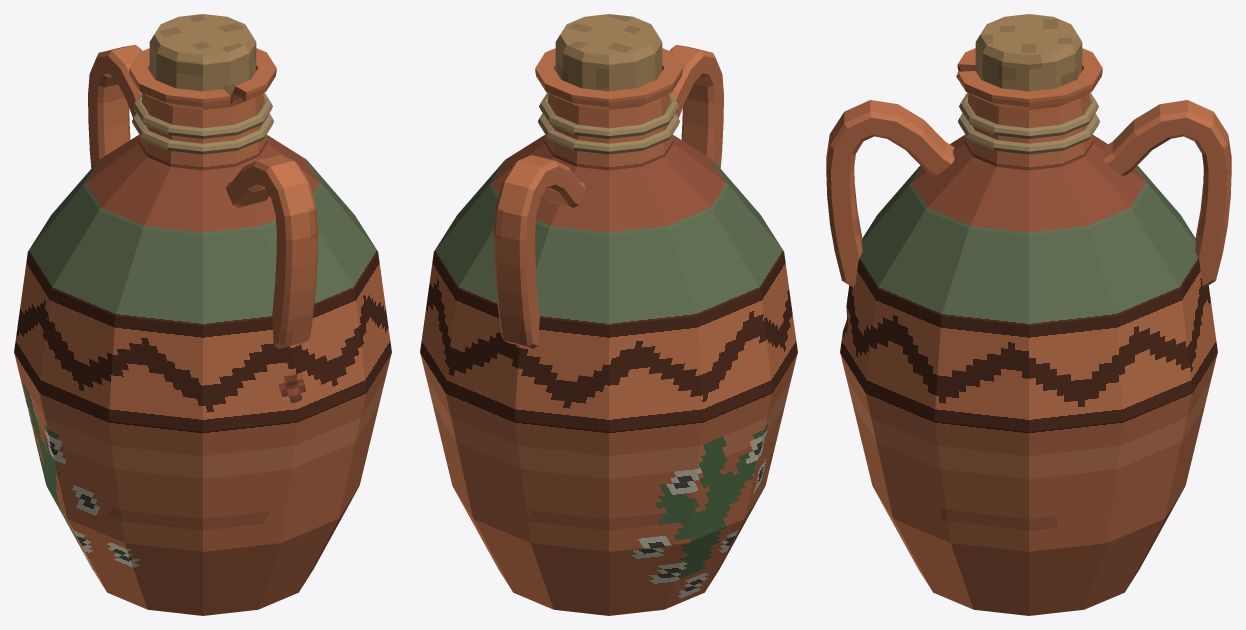
3 views of the same model, side by side, from view 1: azimuth 30°, elevation 25°; view 2: azimuth 150°, elevation 25°; view 3: azimuth 270°, elevation 25° (orthographic).
Visible parts, largest first — view 1: matte_oil_amphora; view 2: matte_oil_amphora; view 3: matte_oil_amphora.
Boxes of the visible parts, x1=… form: matte_oil_amphora: x1=14, y1=14, x2=391, y2=615; matte_oil_amphora: x1=420, y1=14, x2=797, y2=615; matte_oil_amphora: x1=826, y1=14, x2=1231, y2=615.
Bounding box in the file's own units: 0.41 × 0.66 × 0.44.
Materials: 1 (1 with a texture image).
